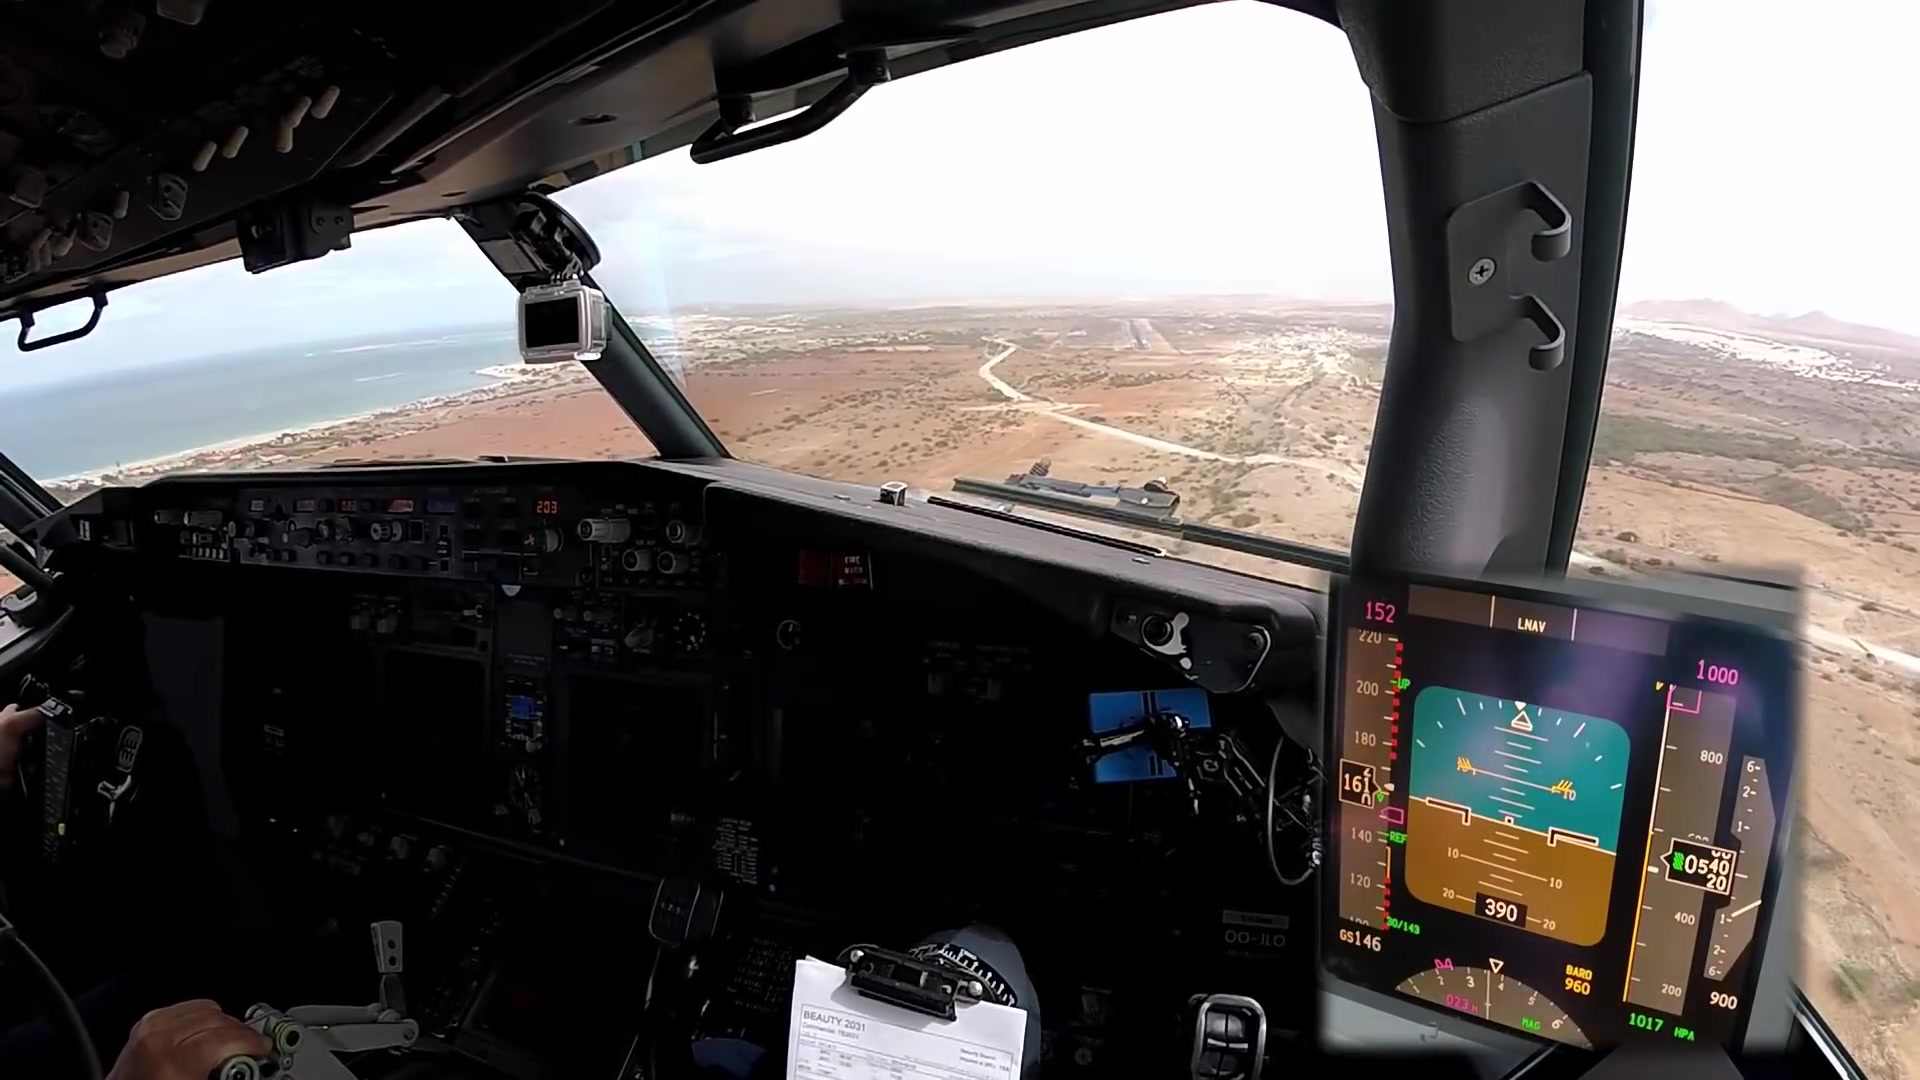runway: (1122, 318, 1154, 352)
